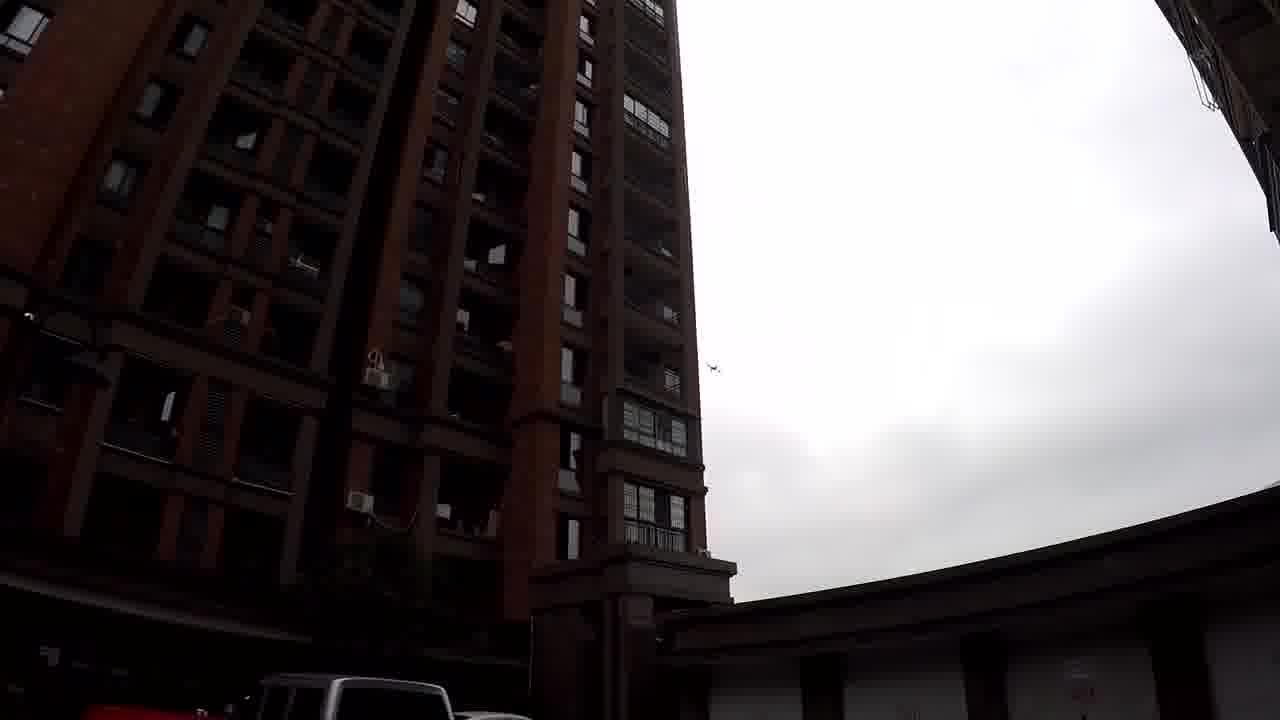drone: (704, 358, 723, 377)
